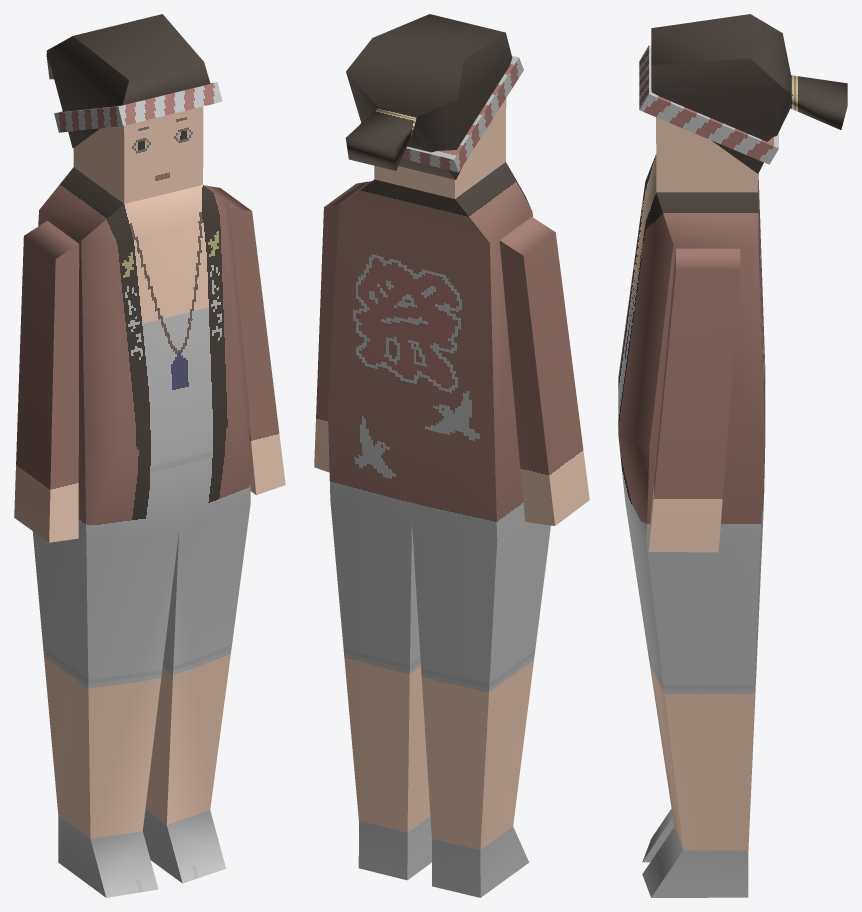
Rendered from 0248_Matsuri_Girl.glb.
The picture shows the model from 3 angles, left to right: view 1: azimuth 30°, elevation 25°; view 2: azimuth 150°, elevation 25°; view 3: azimuth 270°, elevation 25°; orthographic projection.
Visible parts, largest first — view 1: part_0; view 2: part_0; view 3: part_0.
Part boxes in pixels (<box>): part_0: <box>14,14,285,897</box>; part_0: <box>314,14,589,897</box>; part_0: <box>618,14,847,897</box>.
Bounding box in the file's own units: 0.458 × 1.52 × 0.3784.
1 material, 1 textured.
